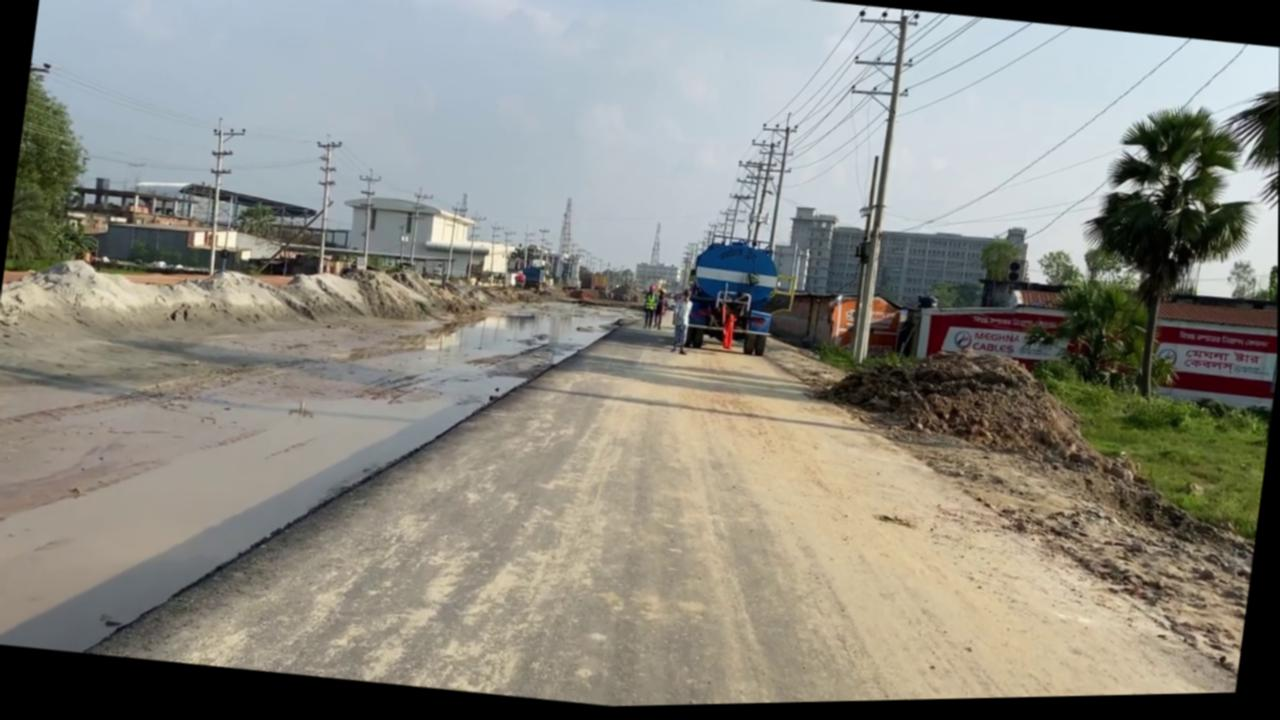Obstacle: (683, 285, 775, 361), (683, 323, 770, 361)
Pole: (814, 8, 921, 370), (194, 117, 246, 278), (301, 135, 344, 275)
Sidewalk: (0, 230, 635, 714)
Traffic-sign: (1060, 97, 1269, 414), (5, 67, 101, 277), (1213, 48, 1280, 227)
Tree: (675, 104, 809, 363), (822, 292, 907, 362)
